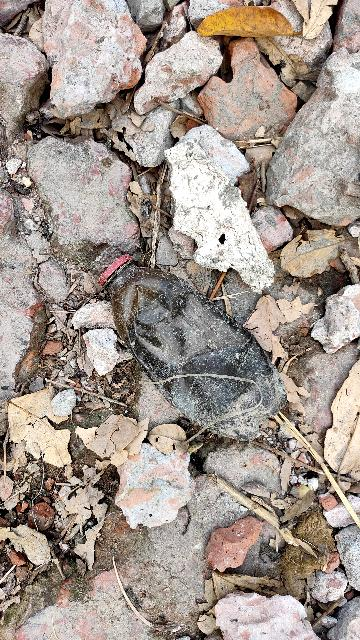bottle: (73, 212, 307, 462)
